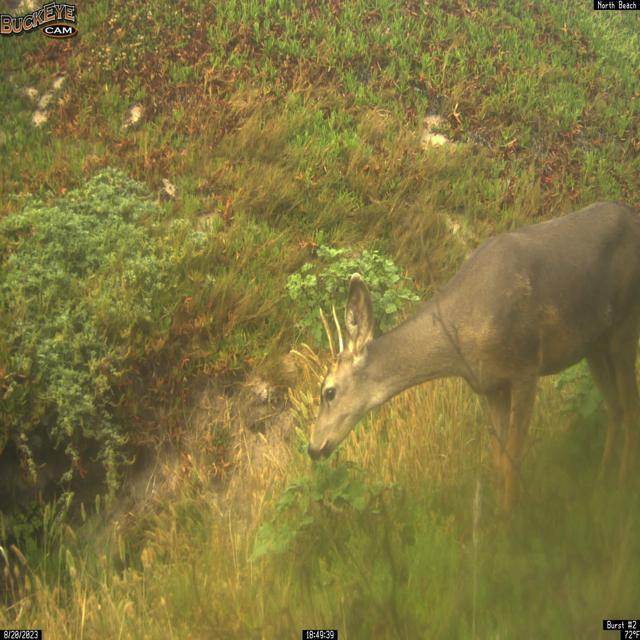deer: (306, 200, 640, 526)
